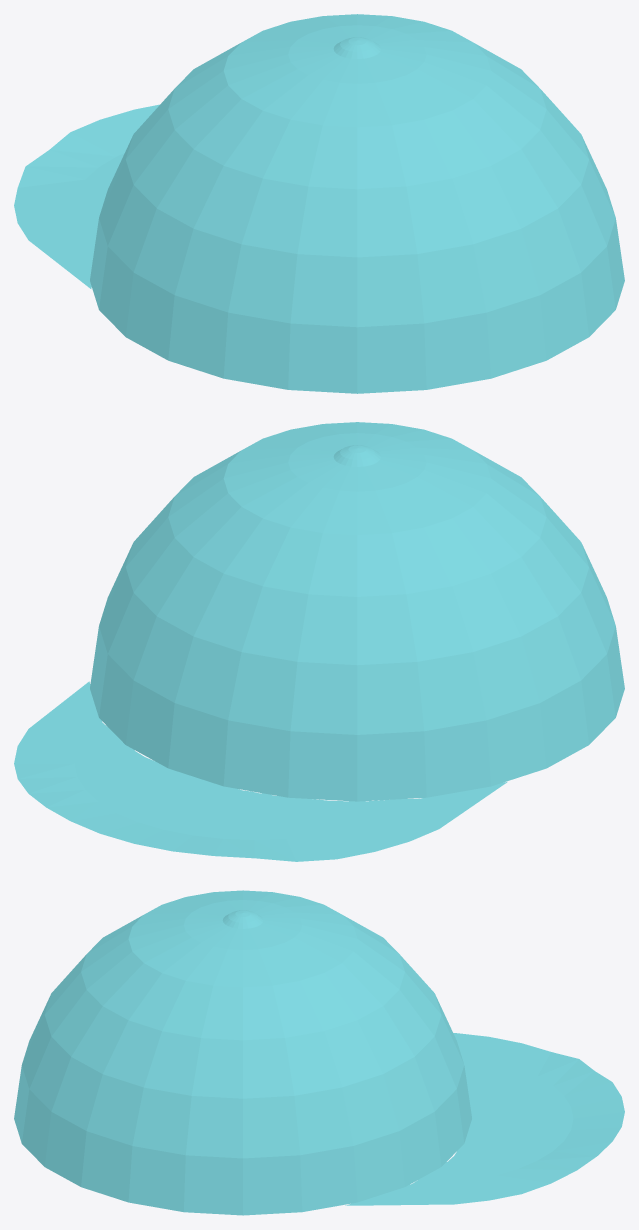
Rendered from threedee.glb.
3 renders of one model, top to bottom at view 1: azimuth 30°, elevation 25°; view 2: azimuth 150°, elevation 25°; view 3: azimuth 270°, elevation 25°, orthographic. The views are drawn at different scales.
Visible parts, largest first — view 1: Hat; view 2: Hat; view 3: Hat.
Part boxes in pixels (left/top/right/bottom): Hat: left=14, top=14, right=624, bottom=393; Hat: left=14, top=422, right=624, bottom=861; Hat: left=14, top=890, right=624, bottom=1215.
Size of the model in its own units: 200 by 99.14 by 267.
